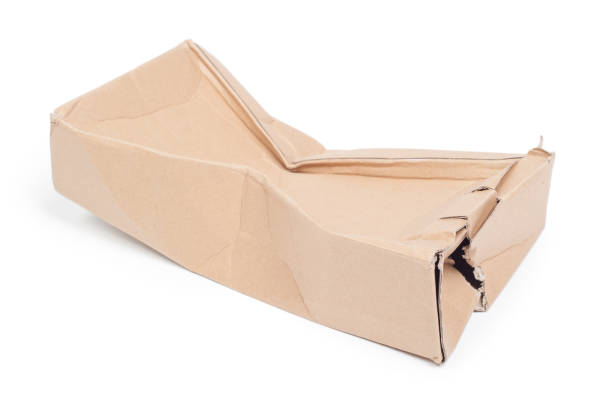damaged package: (206, 71, 525, 180), (426, 229, 503, 303), (531, 139, 563, 175)
